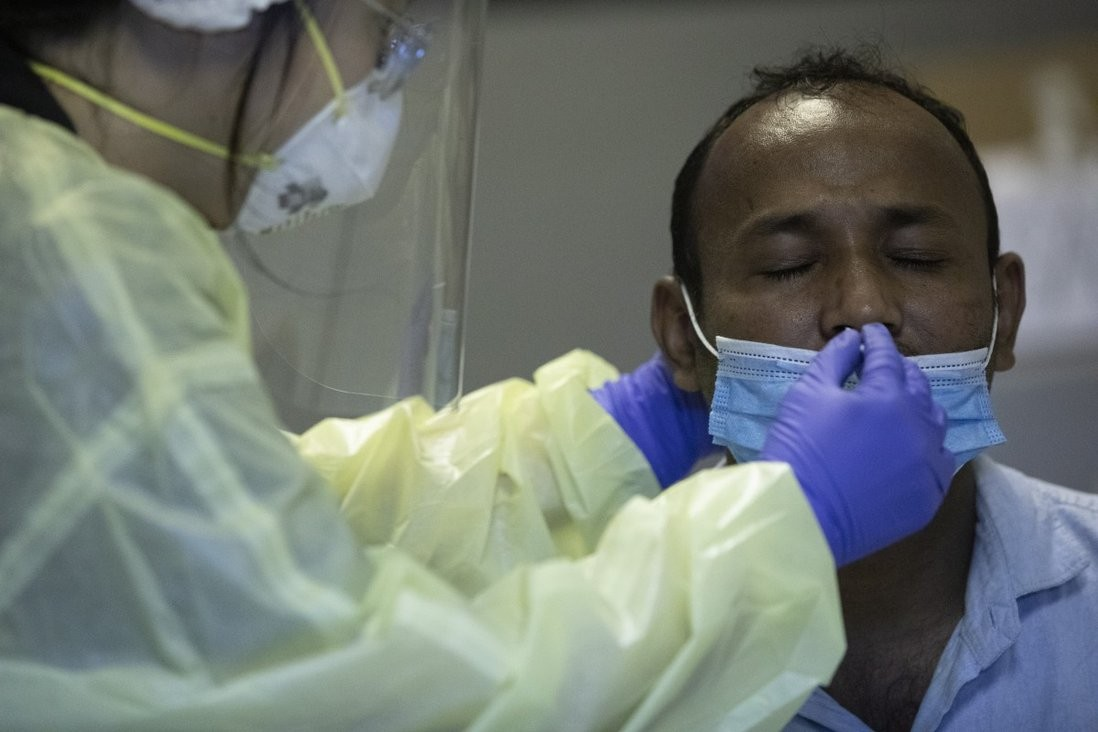Gloves: (744, 329, 959, 561)
mask_weared_incorrect: (711, 196, 975, 503)
with_mask: (245, 5, 421, 234)
